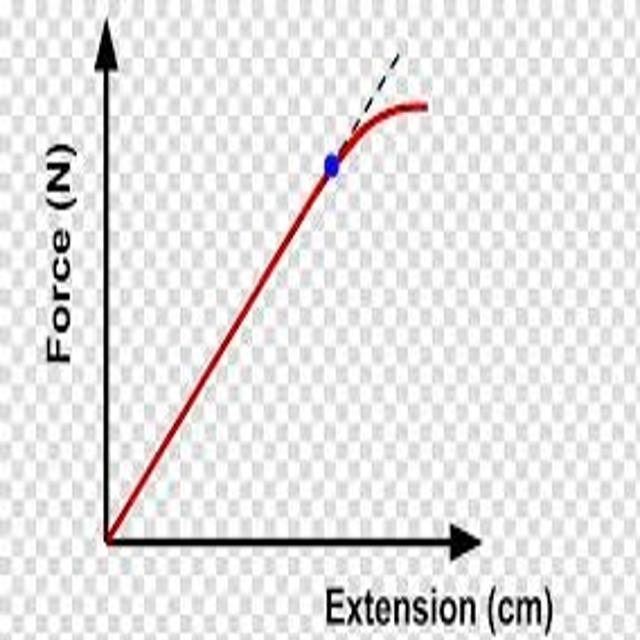axis: (95, 3, 117, 555), (95, 529, 510, 550)
line: (106, 100, 430, 544)
